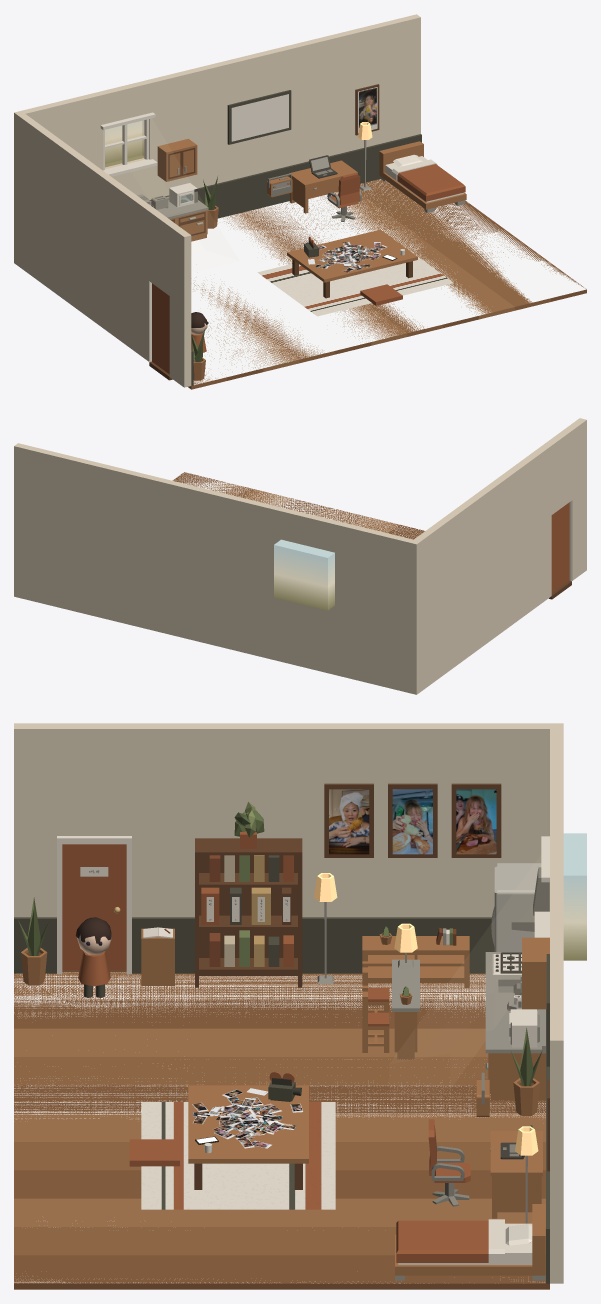
File: lovesoo.glb
3 renders of one model, top to bottom at view 1: azimuth 30°, elevation 25°; view 2: azimuth 150°, elevation 25°; view 3: azimuth 270°, elevation 25°, orthographic. The views are drawn at different scales.
Parts seen in each view (by area): view 1: object 12, object 16, object 18, object 10, object 146, object 9, object 13, object 17, object 21, object 147, object 6, object 7 (+17 smaller); view 2: object 16, object 18, object 13, object 14, object 30, object 21, object 12, object 19, object 15, object 39, object 6, object 7 (+6 smaller); view 3: object 18, item22-shelf, object 11, object 4, object 3, object 146, object 2, object 12, object 9, object 10, object 5, object 1 (+42 smaller).
Boxes of the visible parts, <box> form: object 12: <box>191,179,586,385</box>; object 16: <box>146,14,420,199</box>; object 18: <box>18,114,155,361</box>; object 10: <box>359,179,550,310</box>; object 146: <box>257,239,453,316</box>; object 9: <box>320,192,514,319</box>; object 13: <box>14,92,103,265</box>; object 17: <box>149,134,421,218</box>; object 21: <box>169,225,191,387</box>; object 147: <box>287,229,417,282</box>; object 6: <box>223,212,407,345</box>; object 7: <box>243,205,442,336</box>; object 16: <box>14,443,288,662</box>; object 18: <box>414,444,551,691</box>; object 13: <box>331,520,420,694</box>; object 14: <box>284,600,331,673</box>; object 30: <box>274,545,327,610</box>; object 21: <box>566,418,586,580</box>; object 12: <box>173,472,424,538</box>; object 19: <box>545,428,572,514</box>; object 15: <box>284,509,335,551</box>; object 39: <box>551,502,569,593</box>; object 6: <box>353,516,399,533</box>; object 7: <box>316,507,362,524</box>; object 18: <box>128,723,549,917</box>; item22-shelf: <box>195,802,302,987</box>; object 11: <box>14,1255,549,1289</box>; object 4: <box>14,1057,488,1085</box>; object 3: <box>14,1028,488,1056</box>; object 146: <box>141,1102,335,1209</box>; object 2: <box>14,1000,485,1028</box>; object 12: <box>14,972,545,1283</box>; object 9: <box>14,1198,545,1226</box>; object 10: <box>14,1227,545,1255</box>; object 5: <box>14,1085,545,1113</box>; object 1: <box>14,972,485,1000</box>.
Size of what is drawn, in the model's own units: 11.2 by 4.1 by 8.55.
Materials: 298 (147 with a texture image).
